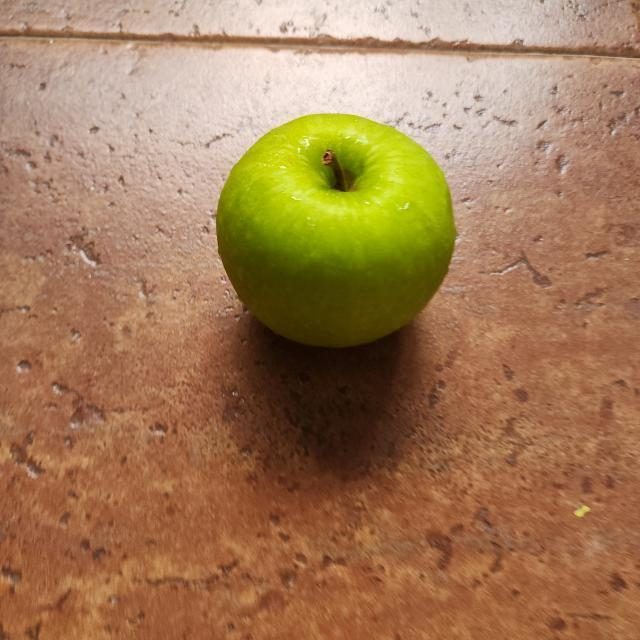apple: (210, 102, 458, 358)
